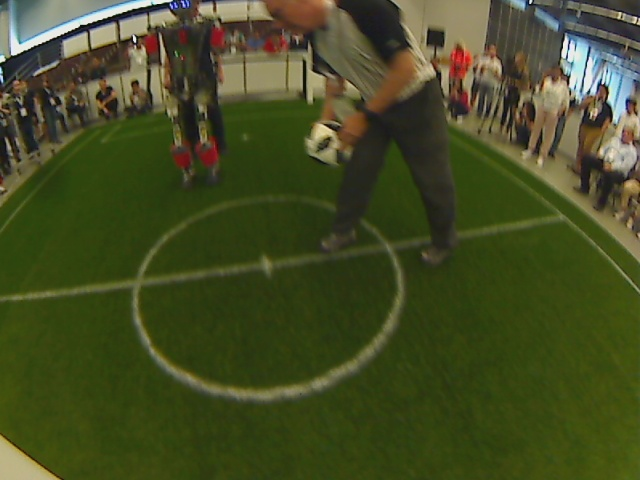ball: (303, 116, 358, 168)
